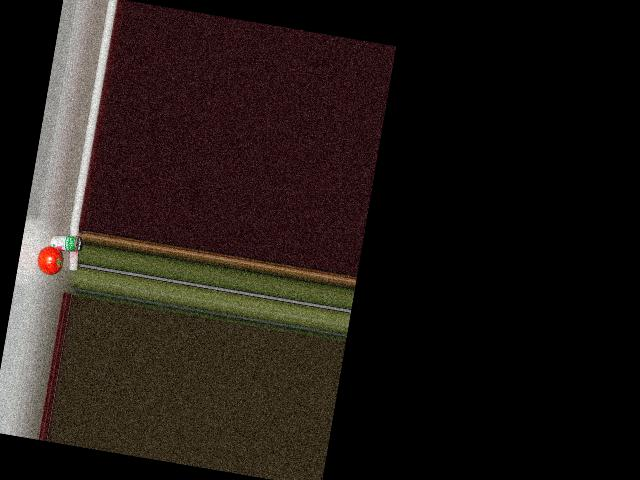tomato: (35, 245, 63, 276)
